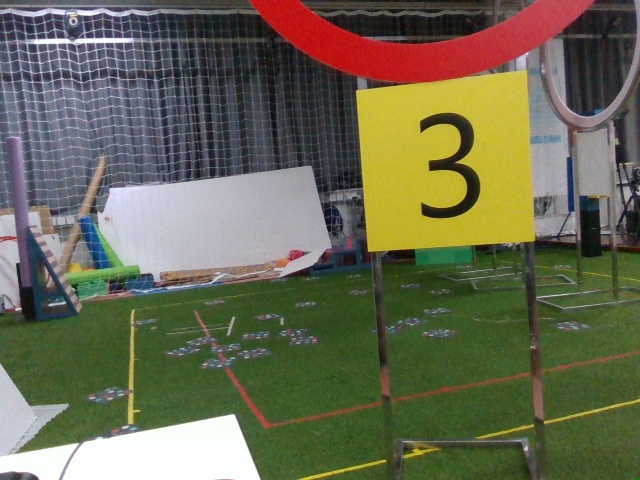target: (364, 86, 523, 244)
